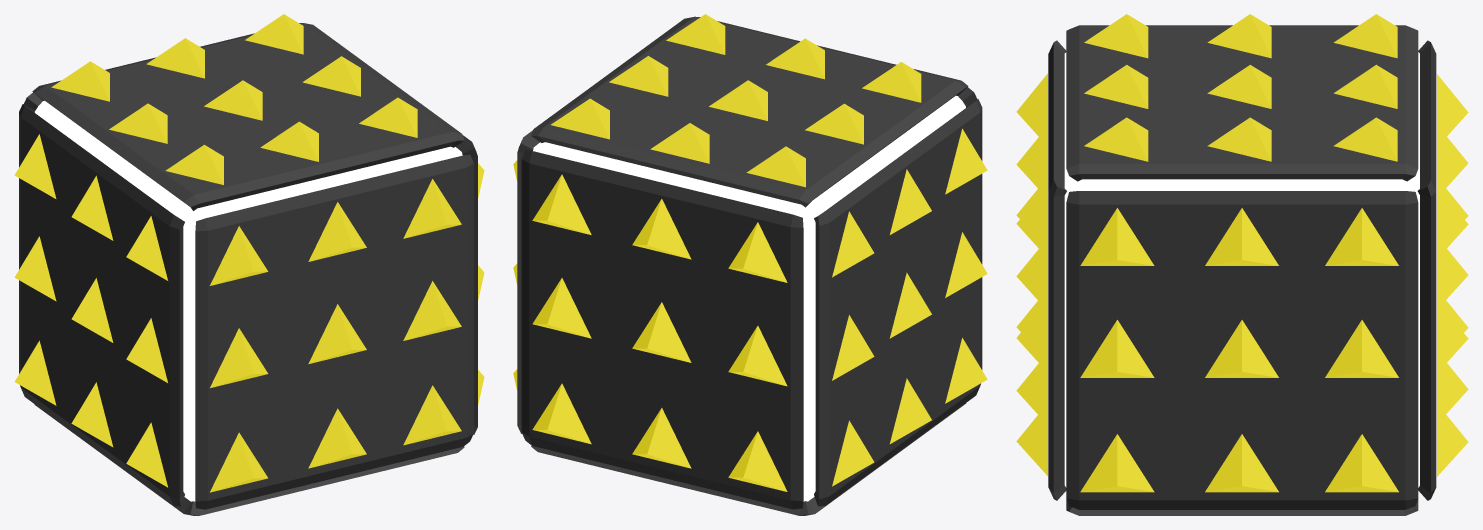
Rendered from Cube enemy.glb.
The picture shows the model from 3 angles, left to right: view 1: azimuth 30°, elevation 25°; view 2: azimuth 150°, elevation 25°; view 3: azimuth 270°, elevation 25°; orthographic projection. The views are drawn at different scales.
Visible parts, largest first — view 1: Cube.001; view 2: Cube.001; view 3: Cube.001.
Part boxes in pixels (<box>): Cube.001: <box>14,14,484,515</box>; Cube.001: <box>513,14,987,515</box>; Cube.001: <box>1016,14,1468,515</box>.
Size of the model in its own units: 2.33 by 2.17 by 2.33.
